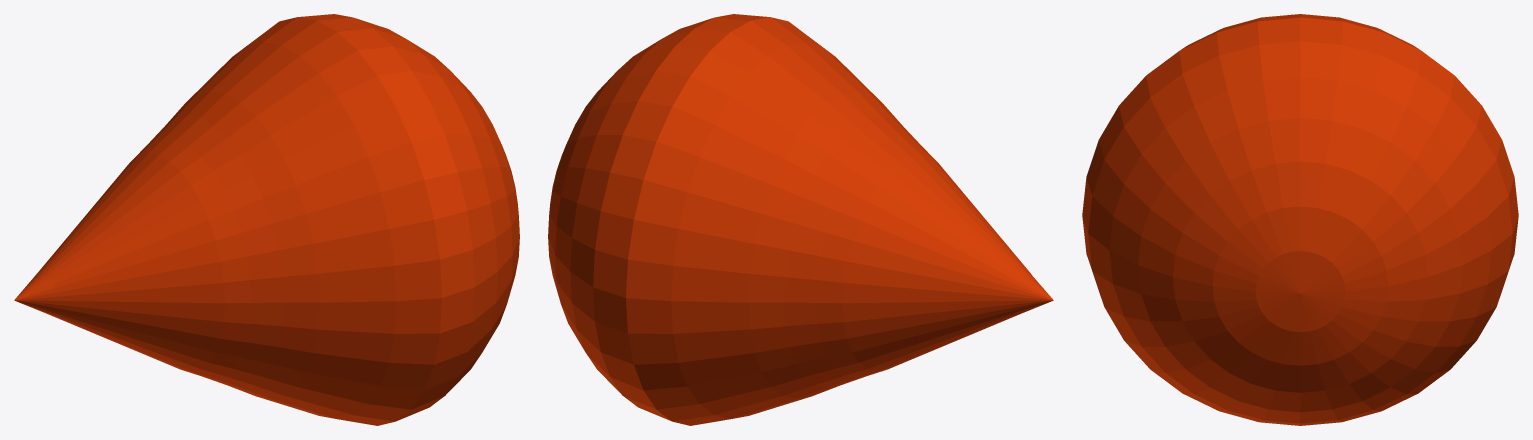
The model's file is new_fireball.fbx.
The picture shows the model from 3 angles, left to right: view 1: azimuth 30°, elevation 25°; view 2: azimuth 150°, elevation 25°; view 3: azimuth 270°, elevation 25°; orthographic projection. The views are drawn at different scales.
Parts seen in each view (by area): view 1: Fireball; view 2: Fireball; view 3: Fireball.
Boxes of the visible parts, x1,y1,x2,y2 form: Fireball: (14, 14, 519, 425); Fireball: (548, 14, 1053, 425); Fireball: (1082, 14, 1518, 425).
Size of the model in its own units: 250 by 190 by 190.
